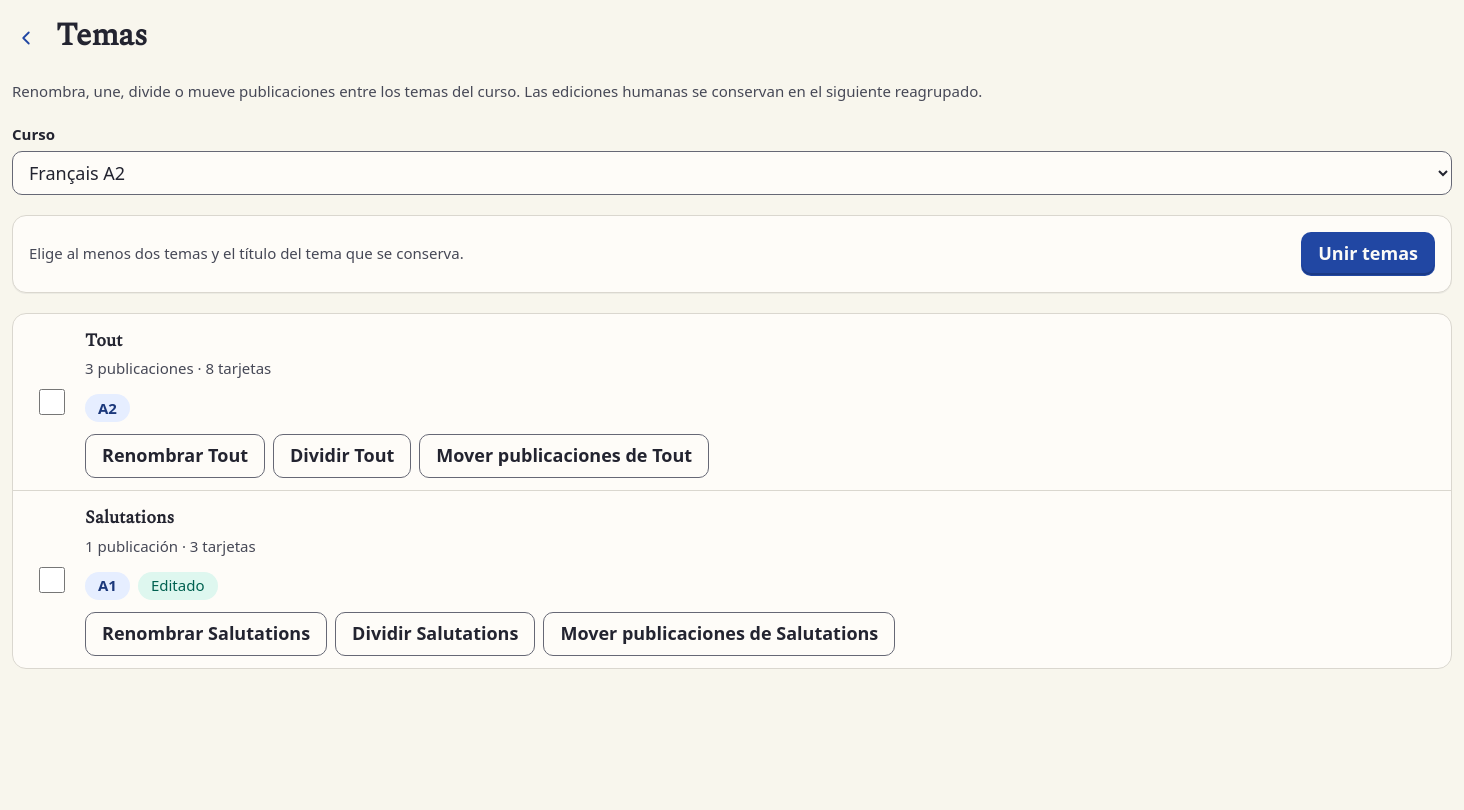
unir temas exige al menos dos y envía merge
The width and height of the screenshot is (1464, 810).
Later steps or results of the test are not shown.
Expected: the button "Renombrar Tout" is shown, [85,434,265,478]
Click the checkbox named "Seleccionar Tout" at (52, 402), box [38,389,64,415]
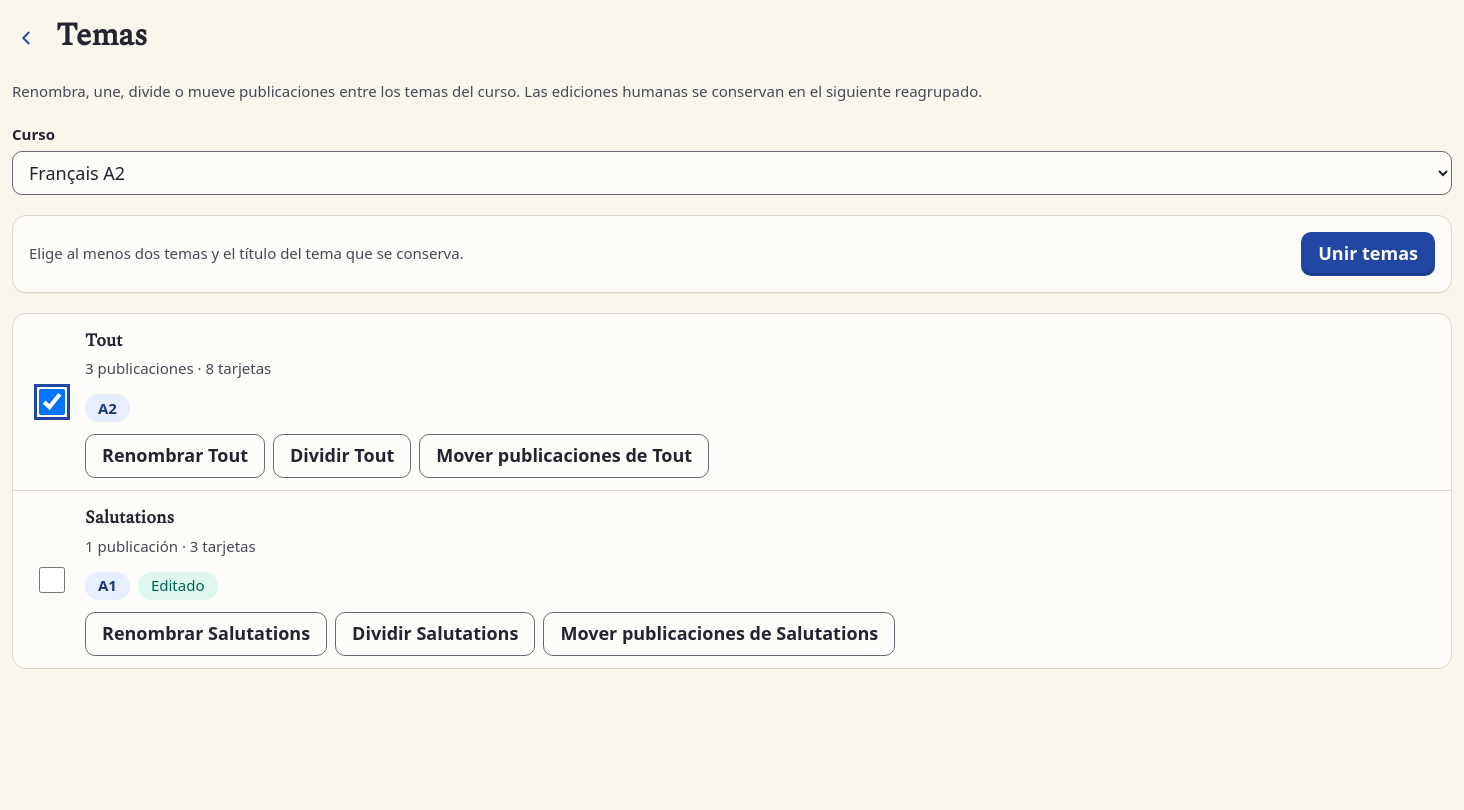
Click the button "Unir temas" at (1368, 254), box [1301,232,1435,276]
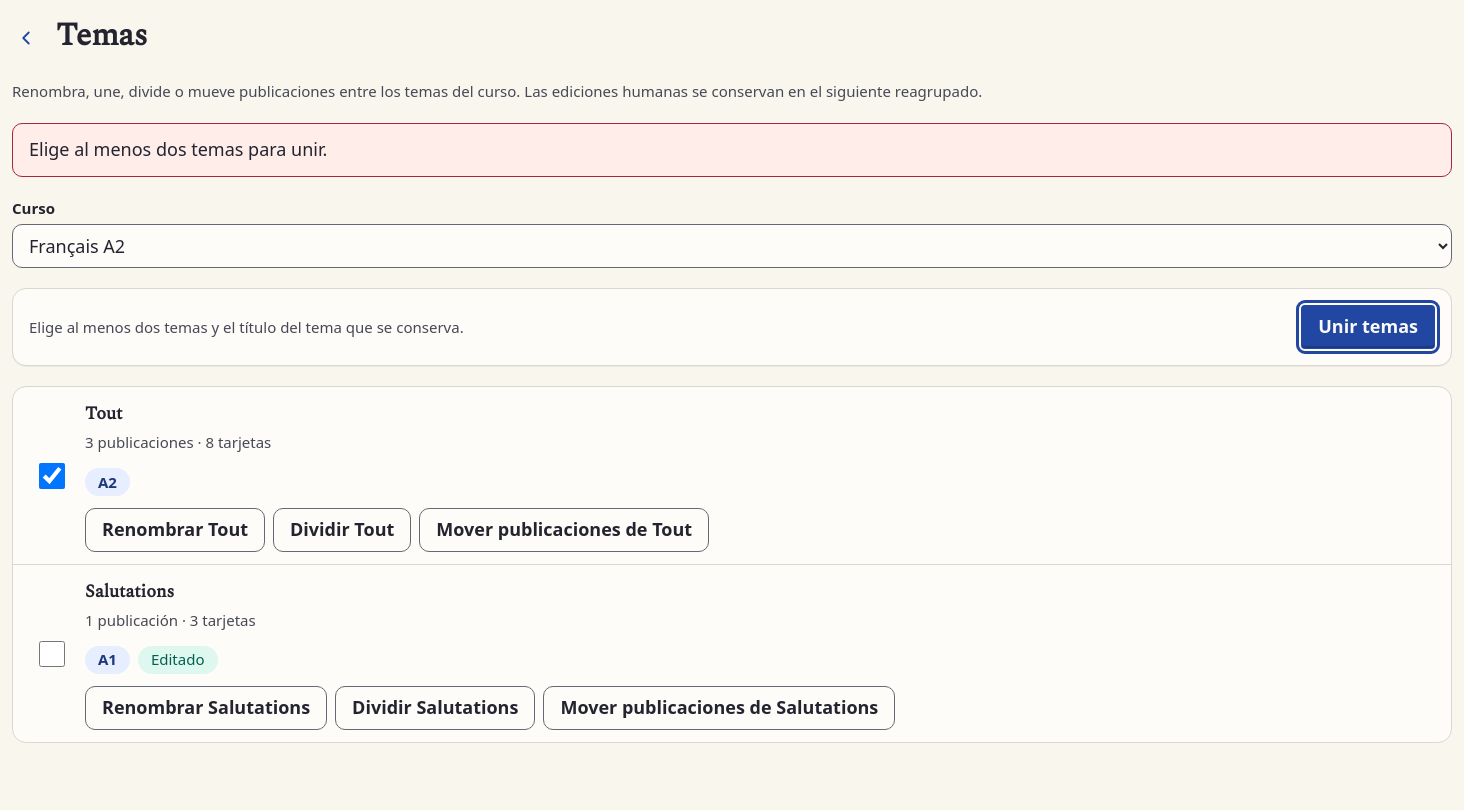
Result: the message shows "Elige al menos dos temas para unir" at [29,137,327,161]
